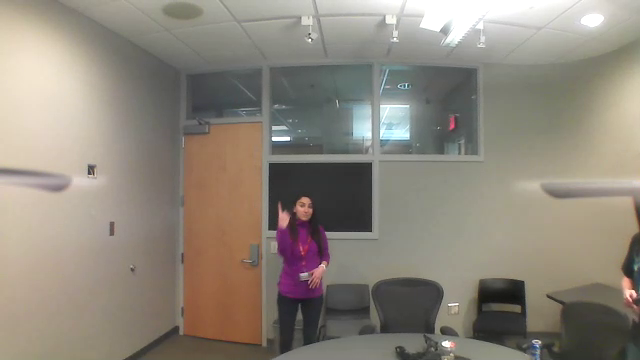up: (275, 200, 293, 231)
